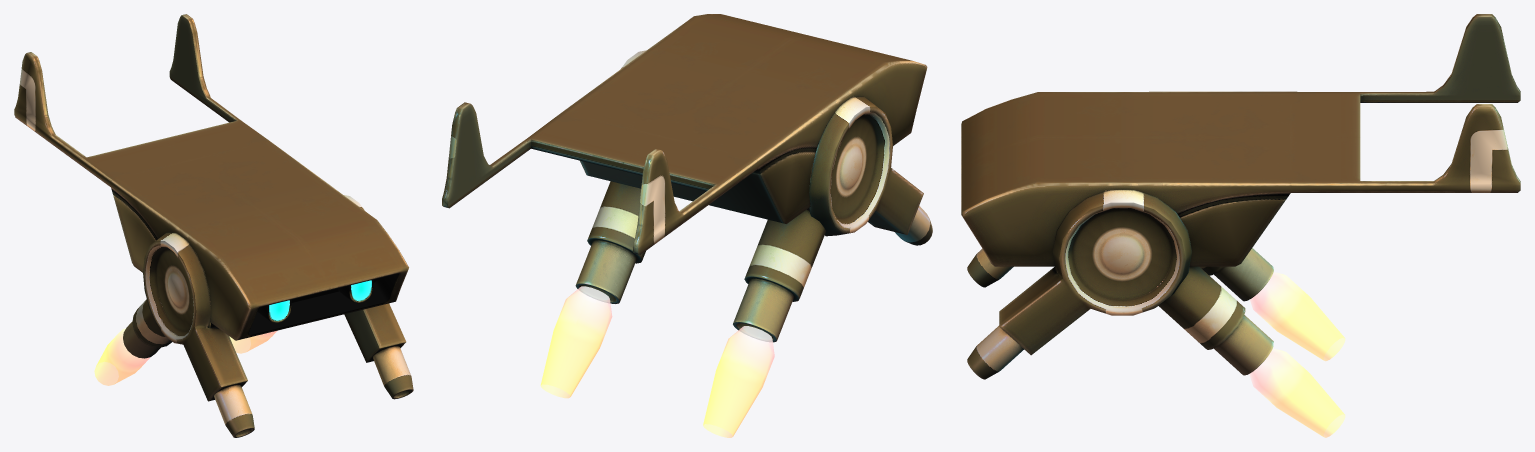
The model's file is drone.gltf.
3 renders of one model, left to right at view 1: azimuth 30°, elevation 25°; view 2: azimuth 150°, elevation 25°; view 3: azimuth 270°, elevation 25°, orthographic. The views are drawn at different scales.
Visible parts, largest first — view 1: Box001, Object002_Material #5_0; view 2: Box001, Object002_Material #5_0; view 3: Box001, Object002_Material #5_0.
Boxes of the visible parts, left/top/right/bottom form: Box001: left=14, top=14, right=413, bottom=437; Object002_Material #5_0: left=94, top=328, right=277, bottom=385; Box001: left=442, top=14, right=932, bottom=342; Object002_Material #5_0: left=540, top=286, right=774, bottom=437; Box001: left=961, top=14, right=1520, bottom=379; Object002_Material #5_0: left=1249, top=272, right=1345, bottom=437.
Bounding box in the file's own units: 0.1965 × 0.2881 × 0.4331.
Materials: 2 (2 with a texture image).
